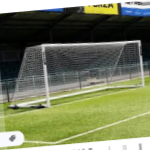goals: (10, 39, 146, 109)
